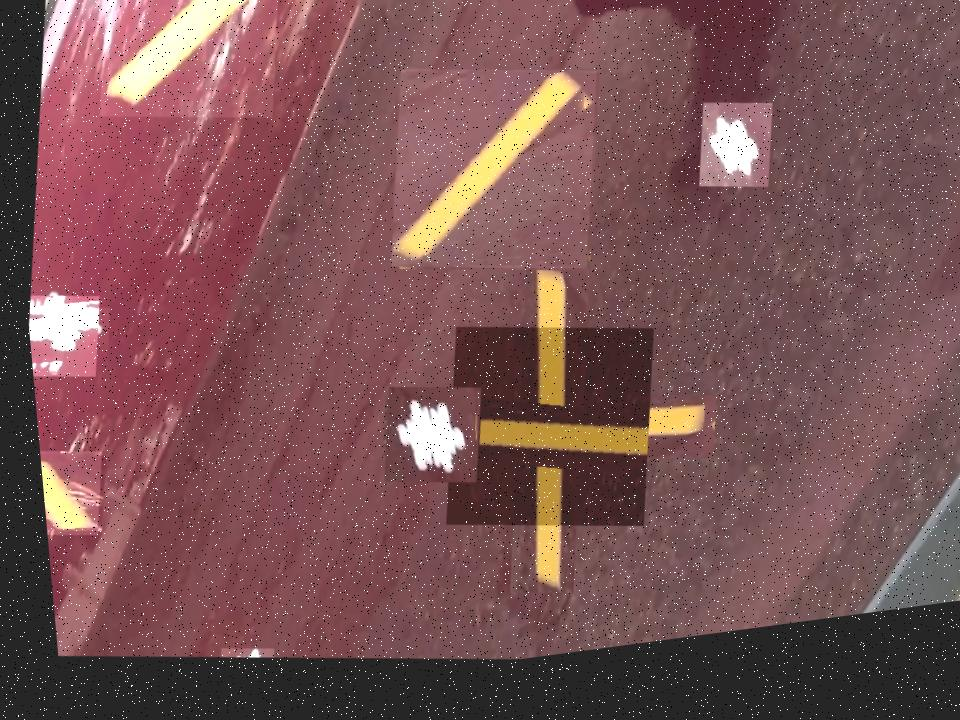dent: (369, 387, 480, 504), (688, 114, 774, 214), (21, 288, 99, 385), (207, 647, 262, 669)
scratch: (422, 317, 660, 562), (373, 59, 608, 303), (89, 0, 293, 143), (31, 443, 99, 542)
